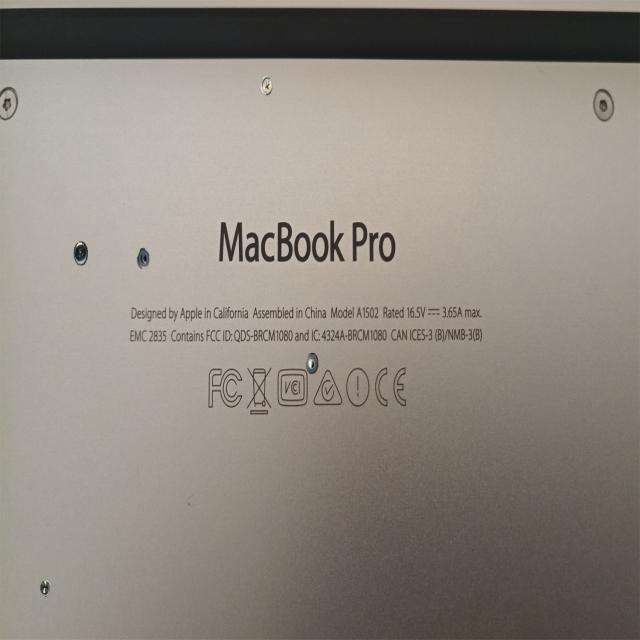lock: (73, 241, 88, 265), (260, 74, 273, 96), (40, 579, 50, 597)
missing_screw: (305, 352, 318, 374), (137, 247, 149, 269)
